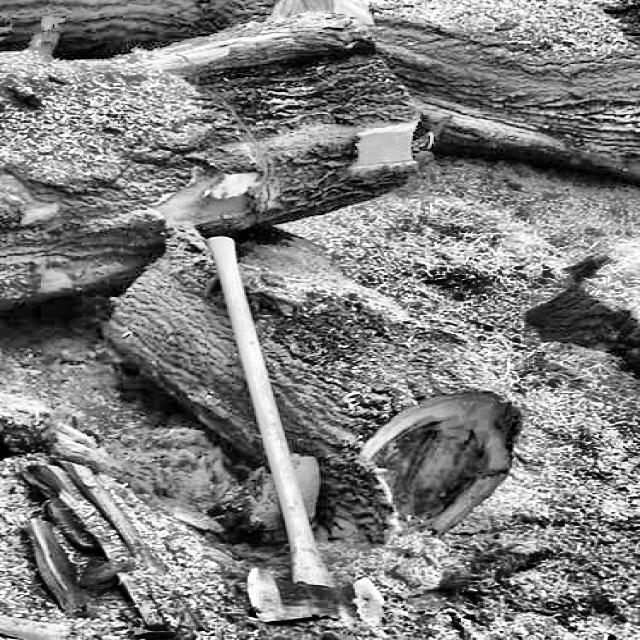kapak: (201, 229, 393, 632)
